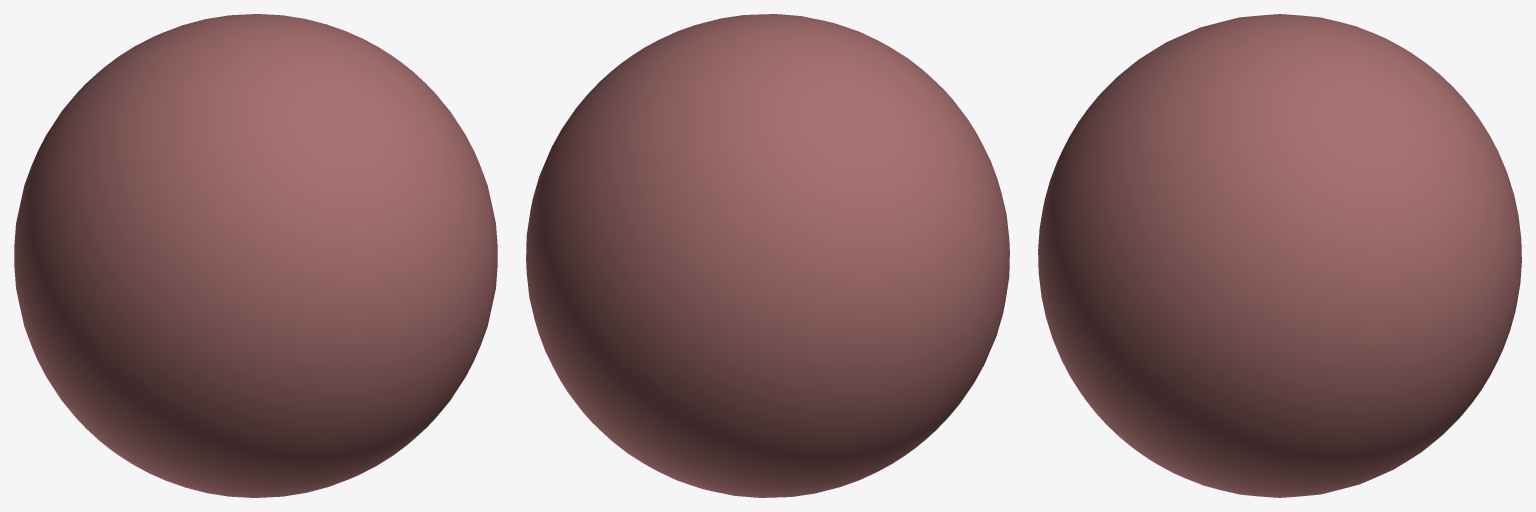
The model's file is Bola.obj.
The picture shows the model from 3 angles, left to right: view 1: azimuth 30°, elevation 25°; view 2: azimuth 150°, elevation 25°; view 3: azimuth 270°, elevation 25°; orthographic projection.
Parts seen in each view (by area): view 1: Cube.001; view 2: Cube.001; view 3: Cube.001.
Boxes of the visible parts, <box> form: Cube.001: <box>14,14,497,497</box>; Cube.001: <box>526,14,1009,497</box>; Cube.001: <box>1038,14,1521,497</box>.
Bounding box in the file's own units: 1.46 × 1.46 × 1.46.
